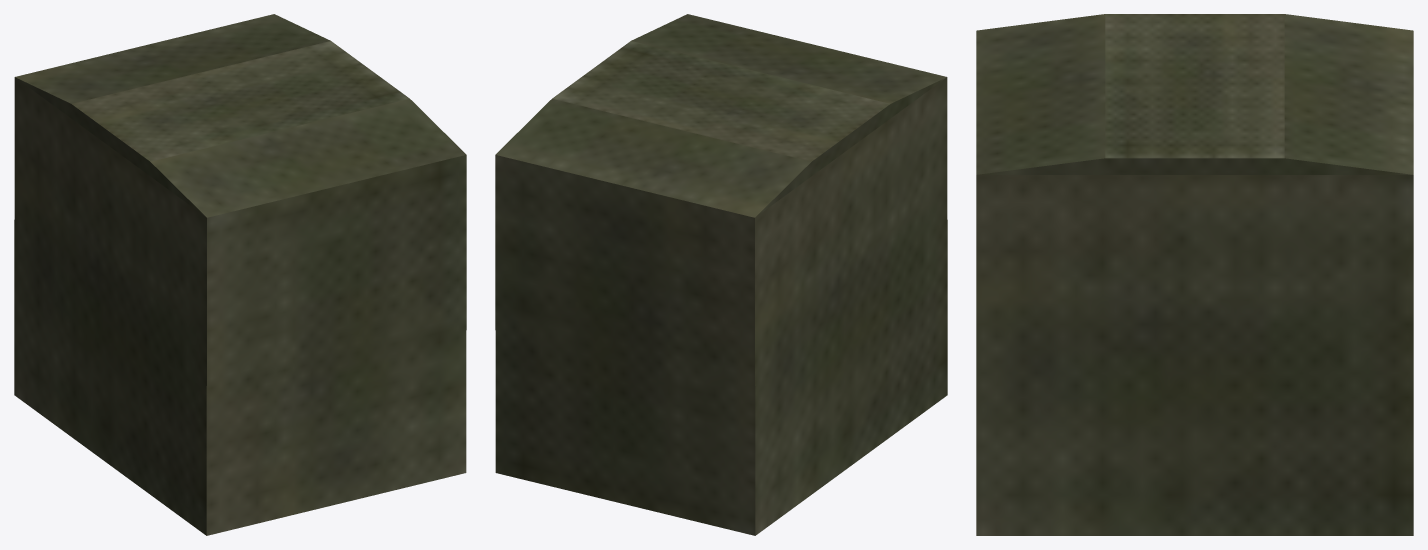
Rendered from Lmg_Ammo.fbx.
3 renders of one model, left to right at view 1: azimuth 30°, elevation 25°; view 2: azimuth 150°, elevation 25°; view 3: azimuth 270°, elevation 25°, orthographic. The views are drawn at different scales.
Parts seen in each view (by area): view 1: Cube; view 2: Cube; view 3: Cube.
Boxes of the visible parts, <box> form: Cube: <box>14,14,466,535</box>; Cube: <box>495,14,947,535</box>; Cube: <box>976,14,1413,535</box>.
Size of the model in its own units: 29.5 by 36.1 by 37.8.
